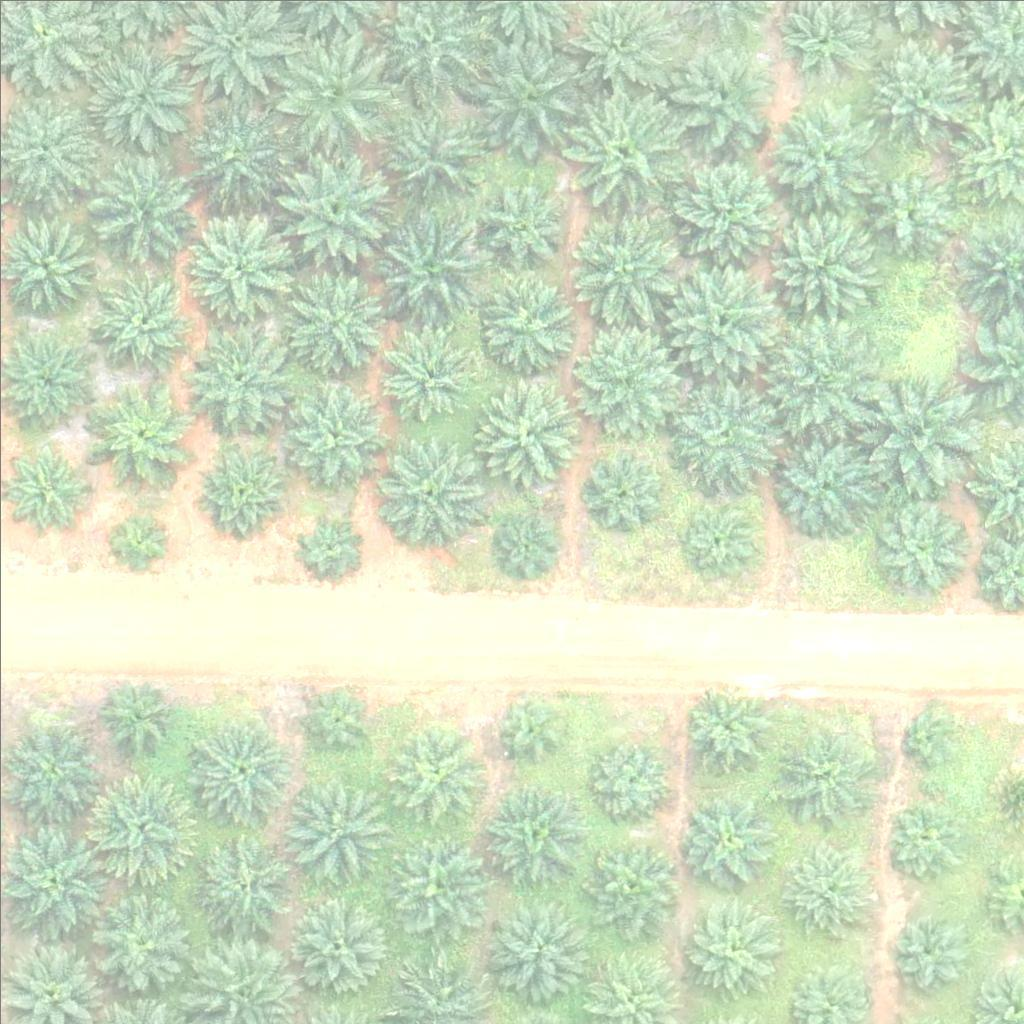Kelapa_Sawit: (858, 368, 983, 494), (755, 309, 880, 435), (661, 144, 786, 270), (560, 202, 685, 328), (561, 87, 686, 213), (465, 31, 590, 157), (369, 211, 494, 337), (370, 92, 495, 218), (269, 142, 394, 268), (271, 24, 396, 150), (173, 200, 298, 325), (761, 203, 874, 317), (763, 99, 876, 212), (669, 33, 782, 146), (569, 322, 682, 435), (667, 265, 779, 379), (83, 764, 195, 877), (869, 35, 981, 148), (672, 381, 784, 494), (1, 719, 101, 820), (192, 828, 292, 929), (188, 721, 288, 822), (285, 892, 385, 993), (285, 783, 385, 884), (384, 834, 484, 935), (384, 722, 484, 823), (484, 902, 584, 1003), (483, 780, 583, 881), (578, 836, 678, 937), (680, 895, 780, 996), (477, 384, 577, 485), (478, 269, 578, 370), (375, 443, 475, 544), (381, 322, 481, 423), (284, 386, 384, 487), (284, 274, 384, 375), (189, 329, 289, 430), (181, 102, 281, 203), (87, 382, 187, 483), (92, 267, 192, 368), (91, 153, 191, 254), (87, 49, 187, 150), (91, 889, 191, 989), (677, 679, 777, 779), (771, 729, 871, 829), (776, 431, 876, 531), (471, 174, 571, 274), (584, 735, 672, 823), (864, 168, 952, 256), (2, 443, 90, 531), (680, 795, 767, 883), (784, 852, 871, 940), (879, 502, 966, 590), (191, 446, 278, 534), (893, 912, 968, 988), (680, 497, 755, 573), (491, 688, 566, 764), (886, 803, 961, 879), (583, 454, 658, 529), (99, 675, 174, 750), (295, 681, 370, 756), (494, 512, 557, 575), (897, 703, 959, 766), (295, 514, 357, 577), (109, 513, 171, 576)
